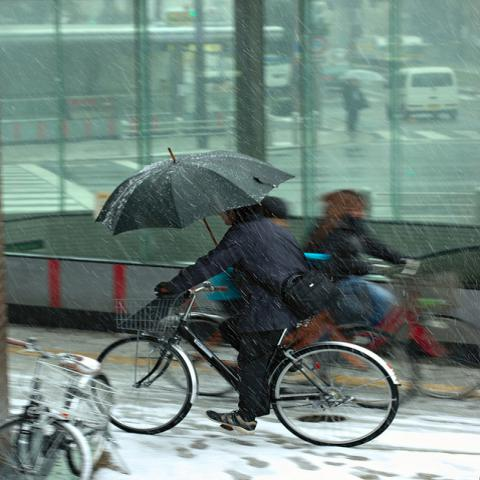bus: (0, 29, 297, 150)
truck: (397, 66, 459, 119)
